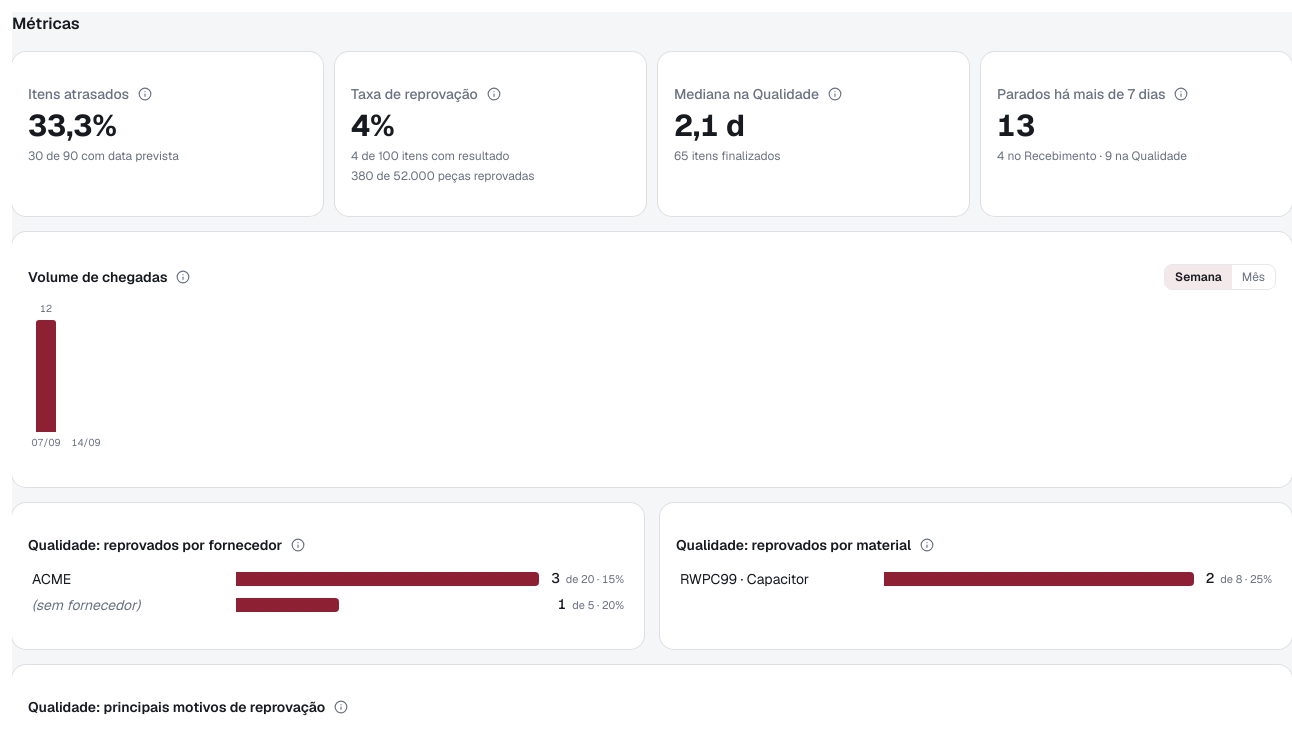
it: Volume: alternador Semana | Mês › começa em semanas e troca para meses
Expected: the list item named "Semana de 07/09/2026: 12 itens em 3 EMBs" is shown, [32,302,60,449]
Click the button "Mês".
click(1253, 277)  # box [1232,265,1275,289]
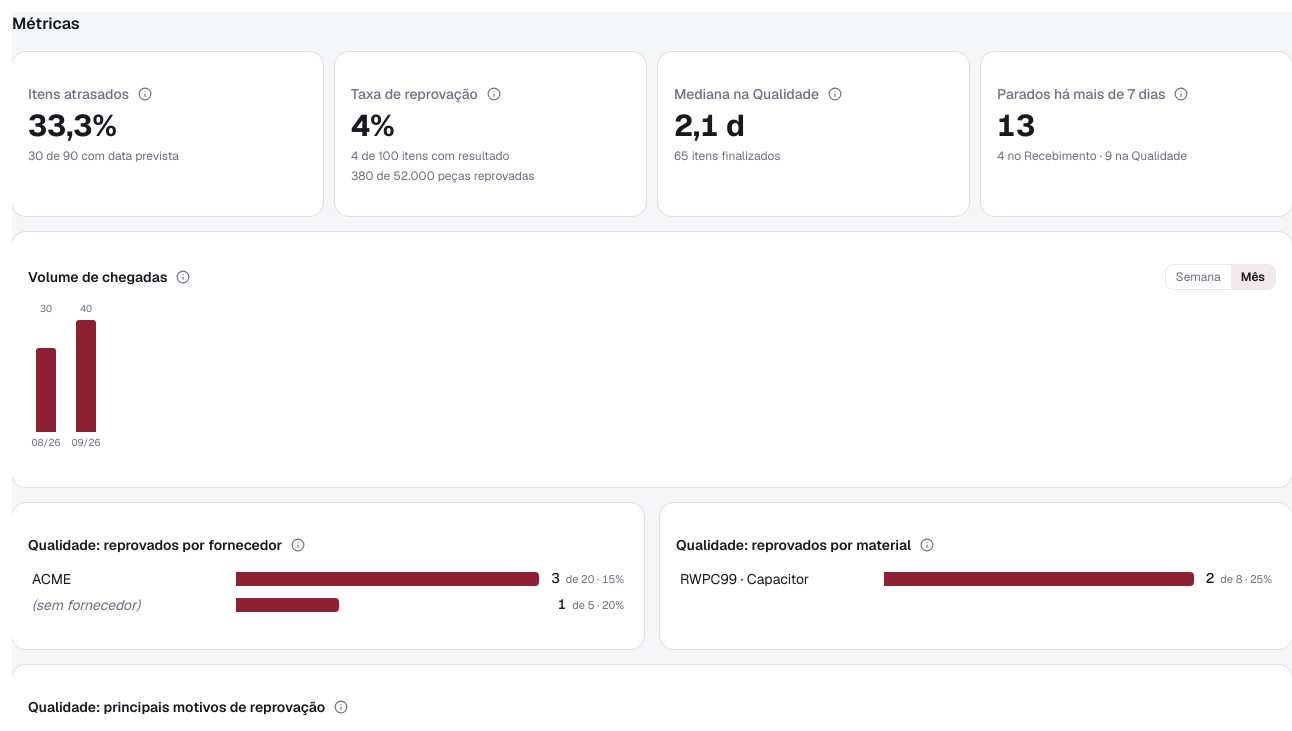
Expected: the list item named "Mês 09/2026: 40 itens em 9 EMBs" is shown, [72,302,100,449]
